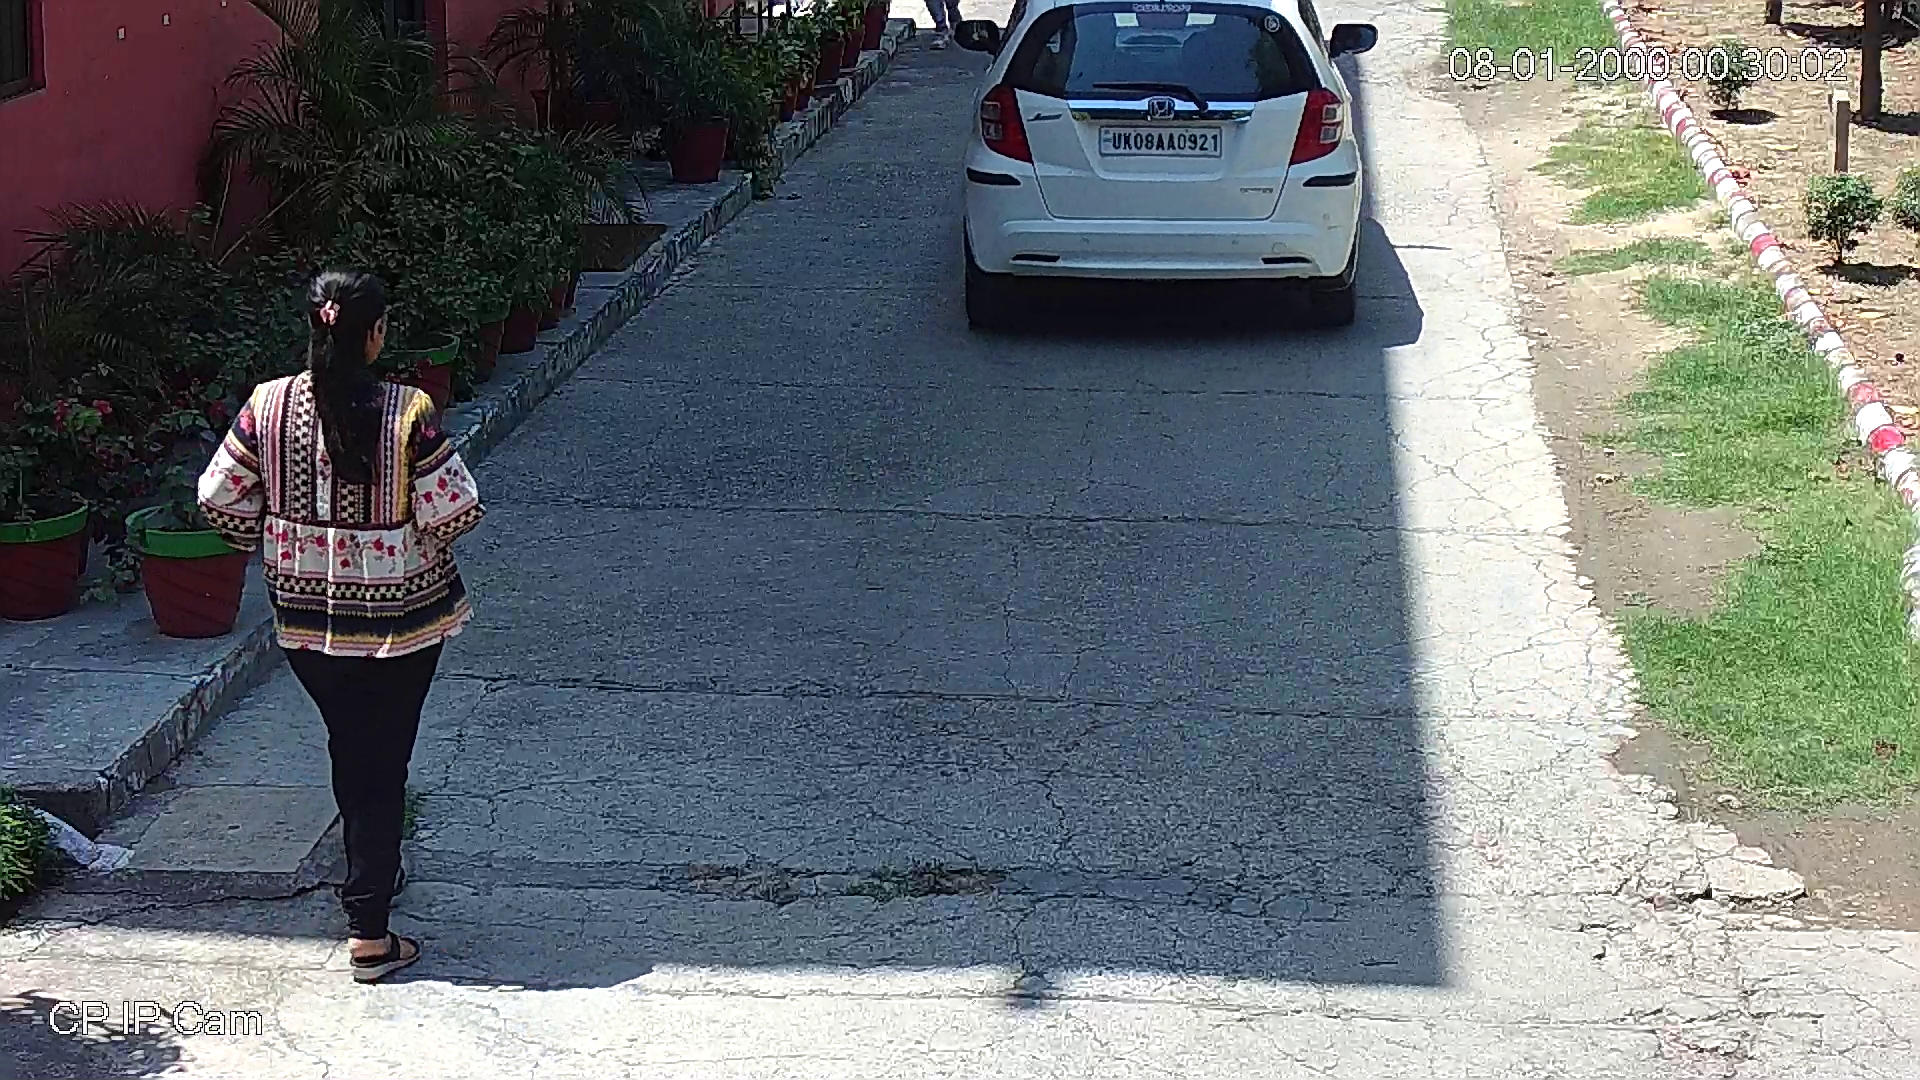plate: (1092, 120, 1231, 161)
